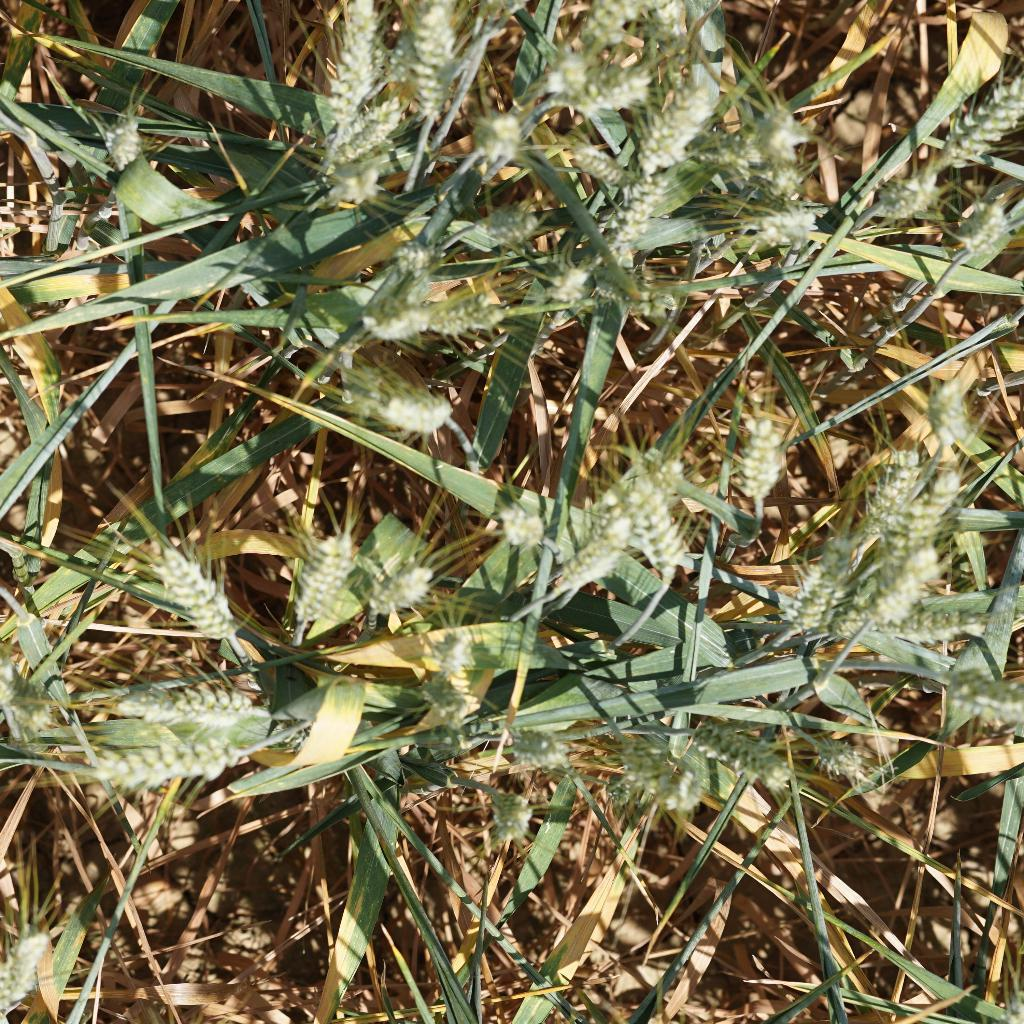0-0: (628, 44, 722, 187), (142, 534, 249, 653), (612, 466, 707, 589), (103, 664, 268, 733), (856, 591, 1009, 662), (927, 70, 1024, 179), (280, 511, 358, 645), (93, 728, 258, 791), (694, 703, 808, 792), (392, 0, 463, 135), (539, 509, 632, 605), (346, 370, 457, 445), (774, 522, 840, 642), (860, 538, 957, 617), (363, 537, 436, 638), (598, 165, 661, 281), (616, 725, 706, 806), (728, 413, 796, 520), (452, 189, 552, 260), (320, 0, 380, 118), (941, 194, 1021, 280), (929, 663, 1024, 735), (313, 94, 406, 165), (555, 56, 654, 119), (852, 447, 925, 530), (900, 477, 971, 559), (553, 0, 662, 53), (456, 94, 534, 168), (742, 94, 813, 168), (363, 277, 436, 348), (429, 276, 516, 335), (550, 127, 623, 197), (634, 0, 698, 75), (523, 257, 615, 309), (752, 195, 828, 257), (858, 157, 930, 220), (322, 149, 397, 209), (918, 378, 976, 455), (489, 717, 568, 773), (0, 926, 55, 1005), (485, 490, 550, 555), (791, 731, 873, 782), (481, 781, 536, 848), (0, 619, 37, 718), (420, 631, 496, 679), (419, 670, 473, 733), (104, 111, 147, 177), (382, 236, 442, 279), (615, 281, 671, 327), (4, 686, 57, 733), (759, 157, 810, 204), (960, 987, 1024, 1024), (494, 0, 570, 27)
